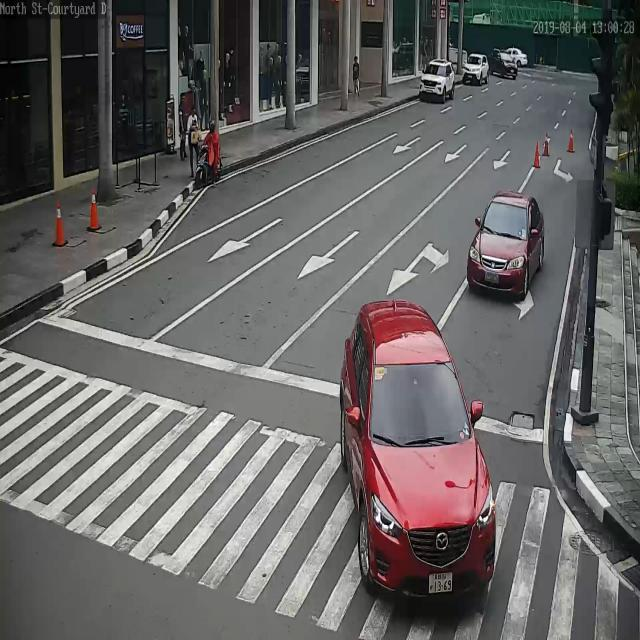car: (338, 311, 505, 615), (465, 188, 547, 297), (417, 59, 456, 105), (461, 52, 491, 84), (490, 47, 519, 79)
jeepney: (195, 123, 223, 189)
